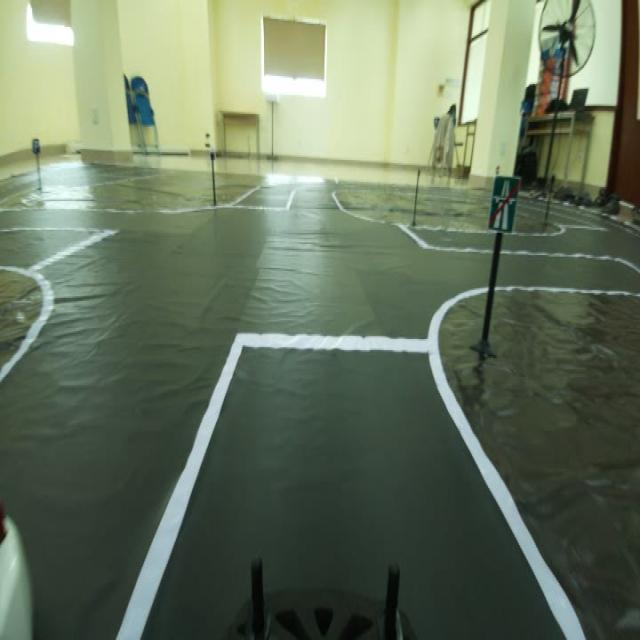highway_exit: (485, 168, 520, 239)
